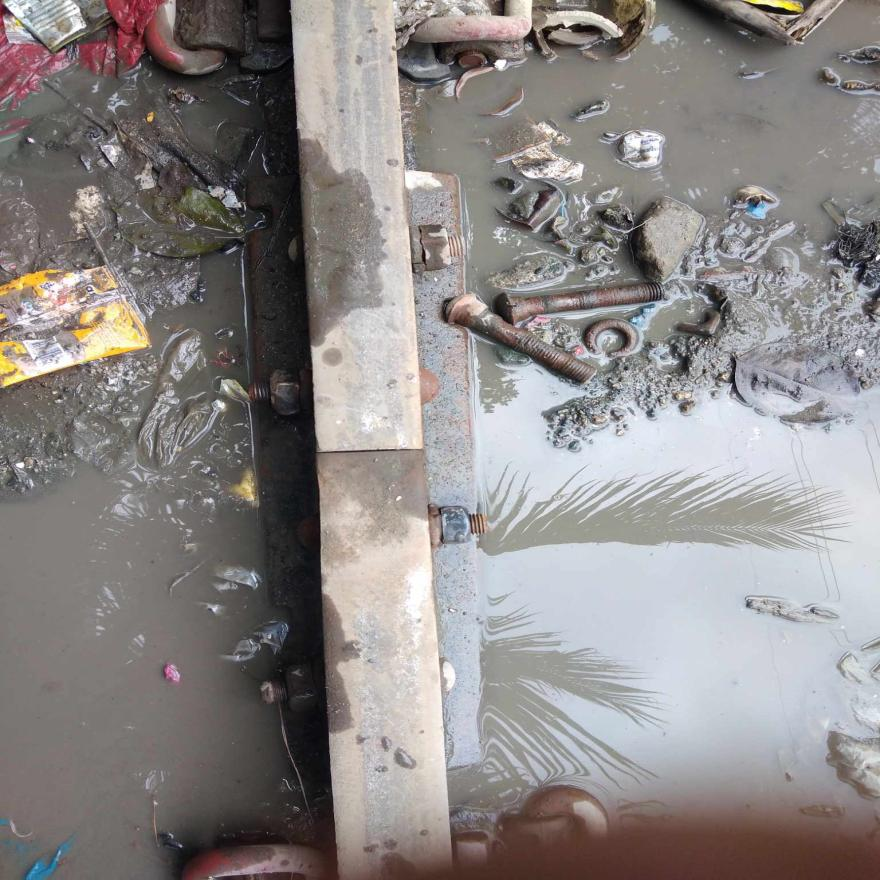railway-gap: (285, 380, 455, 517)
